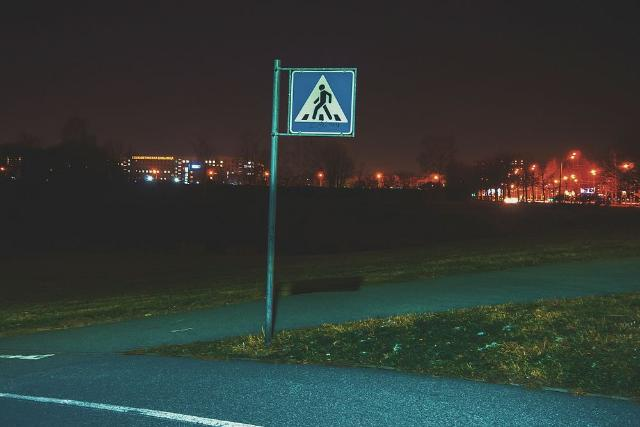crosswalk-sign: (289, 69, 358, 138)
